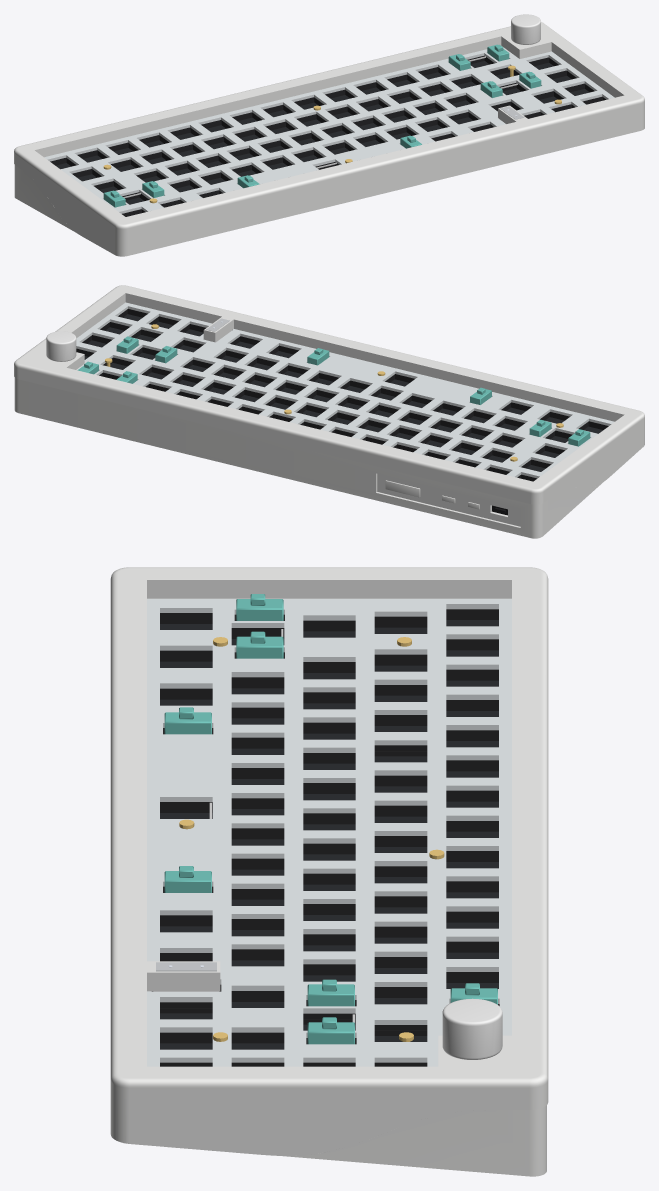
Rendered from 65-ansi.glb.
3 views of the same model, one above another, from view 1: azimuth 30°, elevation 25°; view 2: azimuth 150°, elevation 25°; view 3: azimuth 270°, elevation 25° (orthographic). The views are drawn at different scales.
Visible parts, largest first — view 1: upperLid, plate, plateFoam, pcb, pcbFoam, stabilizers, lowerLid, knob; view 2: upperLid, plate, lowerLid, plateFoam, pcb, pcbFoam, stabilizers, knob, rearLight; view 3: plate, upperLid, plateFoam, pcb, pcbFoam, lowerLid, stabilizers, knob.
Boxes of the visible parts, x1=… form: upperLid: x1=14, y1=22, x2=644, y2=256; plate: x1=44, y1=46, x2=614, y2=213; plateFoam: x1=50, y1=55, x2=606, y2=215; pcb: x1=56, y1=61, x2=589, y2=204; pcbFoam: x1=53, y1=58, x2=603, y2=216; stabilizers: x1=103, y1=44, x2=541, y2=207; lowerLid: x1=14, y1=165, x2=75, y2=232; knob: x1=511, y1=14, x2=540, y2=44; upperLid: x1=14, y1=285, x2=644, y2=504; plate: x1=76, y1=302, x2=614, y2=478; lowerLid: x1=14, y1=378, x2=601, y2=538; plateFoam: x1=76, y1=309, x2=608, y2=480; pcb: x1=84, y1=314, x2=602, y2=471; pcbFoam: x1=76, y1=311, x2=605, y2=481; stabilizers: x1=77, y1=336, x2=590, y2=446; knob: x1=46, y1=331, x2=76, y2=361; rearLight: x1=385, y1=480, x2=479, y2=509; plate: x1=147, y1=598, x2=511, y2=1066; upperLid: x1=110, y1=567, x2=548, y2=1155; plateFoam: x1=152, y1=609, x2=499, y2=1066; pcb: x1=160, y1=620, x2=498, y2=1049; pcbFoam: x1=160, y1=615, x2=498, y2=1043; lowerLid: x1=283, y1=1105, x2=546, y2=1176; stabilizers: x1=164, y1=594, x2=497, y2=1044; knob: x1=442, y1=998, x2=502, y2=1059.
Size of what is drawn, in the model's own units: 32.5 by 4.02 by 11.65.
